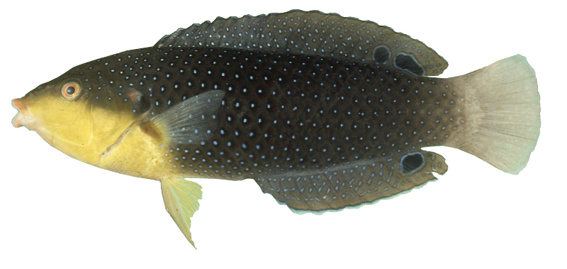fish: (12, 10, 542, 247)
